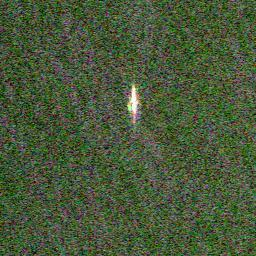Ship: (124, 86, 141, 119)
